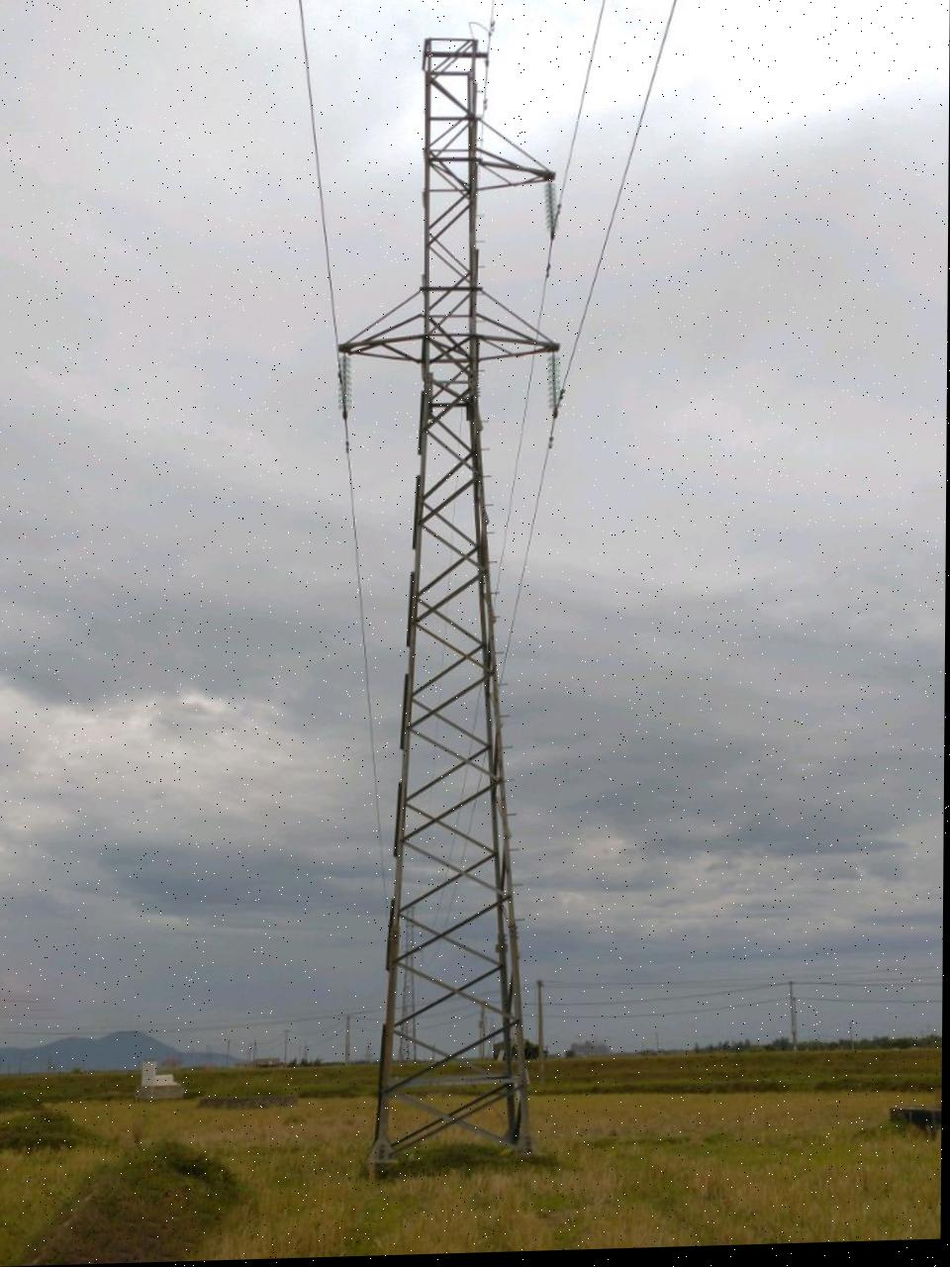tower: (329, 9, 583, 1188)
